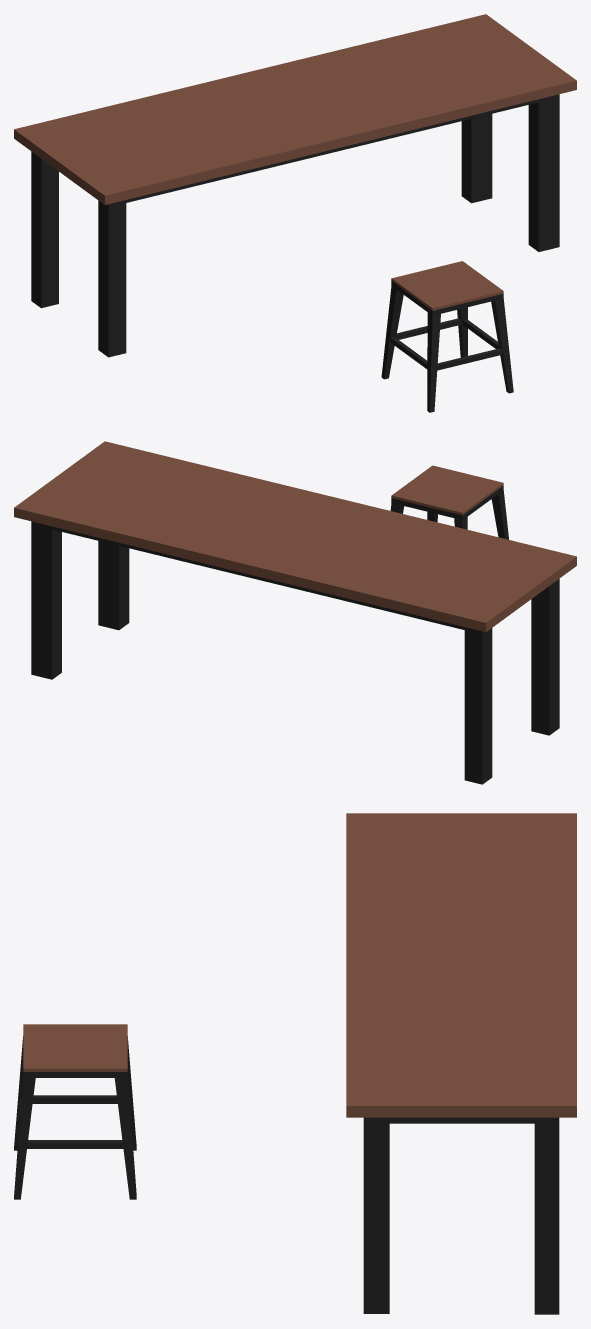
The model's file is Table + chair.fbx.
3 renders of one model, top to bottom at view 1: azimuth 30°, elevation 25°; view 2: azimuth 150°, elevation 25°; view 3: azimuth 270°, elevation 25°, orthographic. The views are drawn at different scales.
Visible parts, largest first — view 1: Table, Chait, chairmetall.003; view 2: Table, Chait; view 3: Table, Chait, chairmetall.001, chairmetall.002.
Boxes of the visible parts, x1,y1,x2,y2 form: Table: (14, 14, 576, 357); Chait: (381, 261, 513, 412); chairmetall.003: (437, 348, 502, 370); Table: (14, 441, 576, 784); Chait: (390, 465, 508, 539); Table: (346, 813, 576, 1314); Chait: (14, 1024, 136, 1199); chairmetall.001: (27, 1140, 123, 1148); chairmetall.002: (32, 1095, 117, 1103).
Size of the model in its own units: 300 by 103 by 244.
